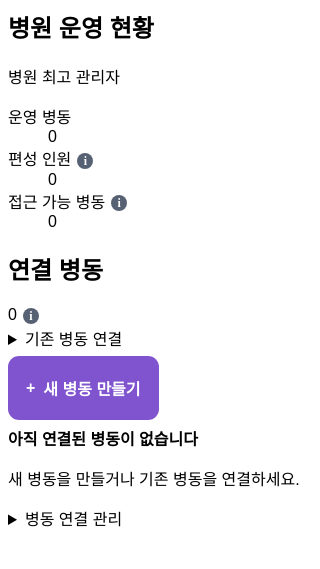
hospital owner disconnection › keeps terminal CANCELED links in history without counting them as linked wards
Expected: the text "아직 연결된 병동이 없습니다" is shown, [8, 431, 198, 448]
Expected: the text with class "hospital-overview-count" reads "0", [8, 306, 17, 323]
Step 1. Click the heading "병동 연결 관리" → (74, 520), box [25, 511, 122, 528]
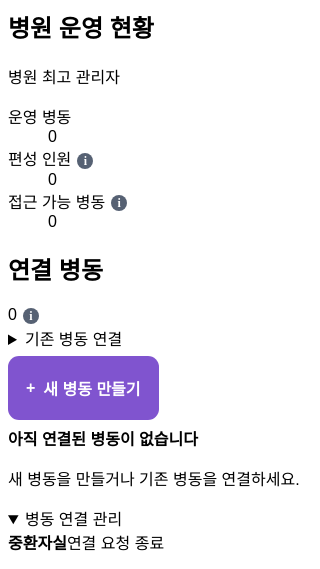
Result: the text "중환자실" is shown at [8, 535, 67, 552]
Result: the text "연결 요청 종료" is shown at [67, 535, 164, 552]
